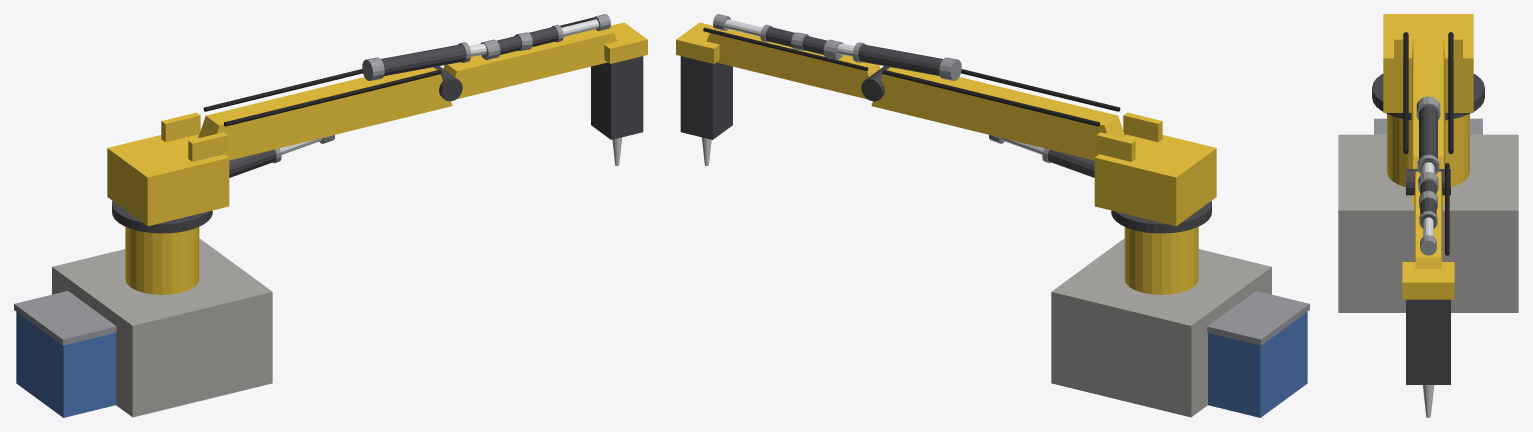
The model's file is EQ_RockBreaker.glb.
3 views of the same model, side by side, from view 1: azimuth 30°, elevation 25°; view 2: azimuth 150°, elevation 25°; view 3: azimuth 270°, elevation 25° (orthographic). The views are drawn at different scales.
Parts seen in each view (by area): view 1: RB_Pedestal, RB_Boom, RB_Slew, RB_Stick, RB_Hammer, RB_StickCyl, RB_HammerCyl, RB_BoomCyl, RB_HammerCyl_Rod; view 2: RB_Pedestal, RB_Boom, RB_Slew, RB_Stick, RB_Hammer, RB_StickCyl, RB_HammerCyl, RB_BoomCyl, RB_HammerCyl_Rod; view 3: RB_Pedestal, RB_Hammer, RB_Slew, RB_Boom, RB_Stick, RB_StickCyl, RB_HammerCyl, RB_HammerCyl_Rod, RB_StickCyl_Rod.
Part boxes in pixels (<box>): RB_Pedestal: <box>14,201,272,417</box>; RB_Boom: <box>198,66,462,160</box>; RB_Slew: <box>107,112,229,226</box>; RB_Stick: <box>443,17,616,99</box>; RB_Hammer: <box>591,22,647,165</box>; RB_StickCyl: <box>362,42,471,80</box>; RB_HammerCyl: <box>480,24,563,60</box>; RB_BoomCyl: <box>229,148,281,177</box>; RB_HammerCyl_Rod: <box>561,14,610,36</box>; RB_Pedestal: <box>1051,201,1309,417</box>; RB_Boom: <box>861,66,1125,160</box>; RB_Slew: <box>1094,112,1216,226</box>; RB_Stick: <box>703,27,880,99</box>; RB_Hammer: <box>676,22,732,165</box>; RB_StickCyl: <box>852,42,961,80</box>; RB_HammerCyl: <box>760,24,843,59</box>; RB_BoomCyl: <box>1042,148,1094,177</box>; RB_HammerCyl_Rod: <box>713,14,762,36</box>; RB_Pedestal: <box>1338,74,1518,312</box>; RB_Hammer: <box>1402,262,1454,417</box>; RB_Slew: <box>1383,14,1473,112</box>; RB_Boom: <box>1403,32,1453,203</box>; RB_Stick: <box>1414,163,1449,268</box>; RB_StickCyl: <box>1416,96,1440,174</box>; RB_HammerCyl: <box>1418,172,1438,228</box>; RB_HammerCyl_Rod: <box>1420,217,1436,255</box>; RB_StickCyl_Rod: <box>1419,162,1437,209</box>.
Bounding box in the file's own units: 10.25 × 4.27 × 2.4.
